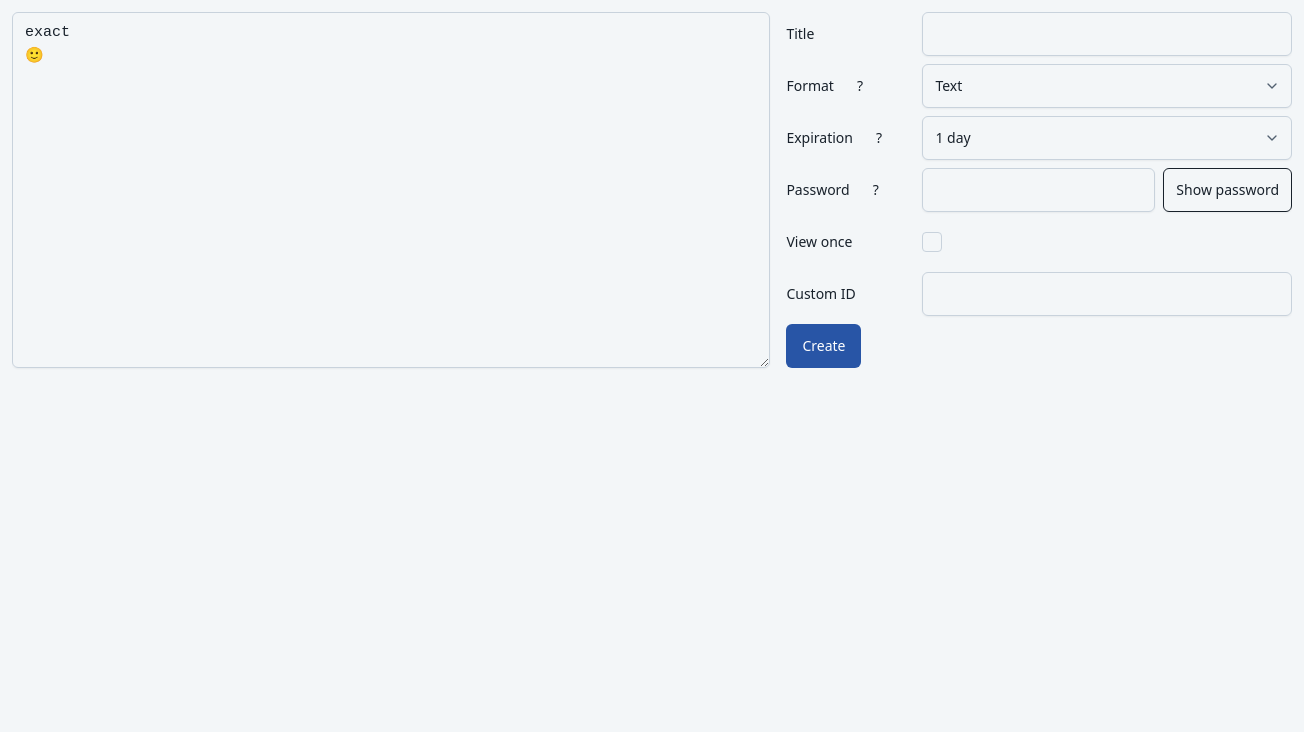
Test: create interaction › submits pasted CRLF source unchanged and stays on root
The image size is (1304, 732).
Check: the text box named "content" is shown, box [12,12,770,368]
Type "  title  " into the field named "title". click: {"x": 1107, "y": 34}
box: [922,12,1292,56]
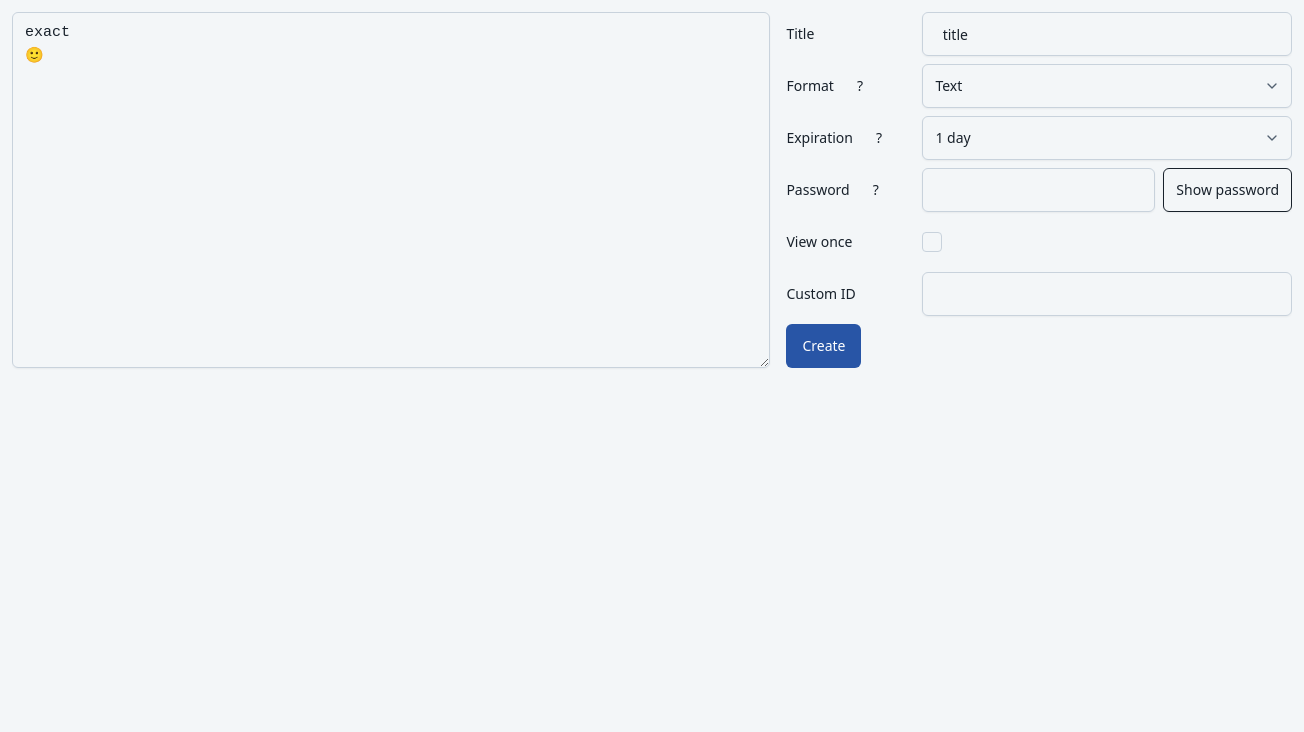
Click the checkbox labelled "View once". click: {"x": 932, "y": 242}
box: [922,232,942,252]
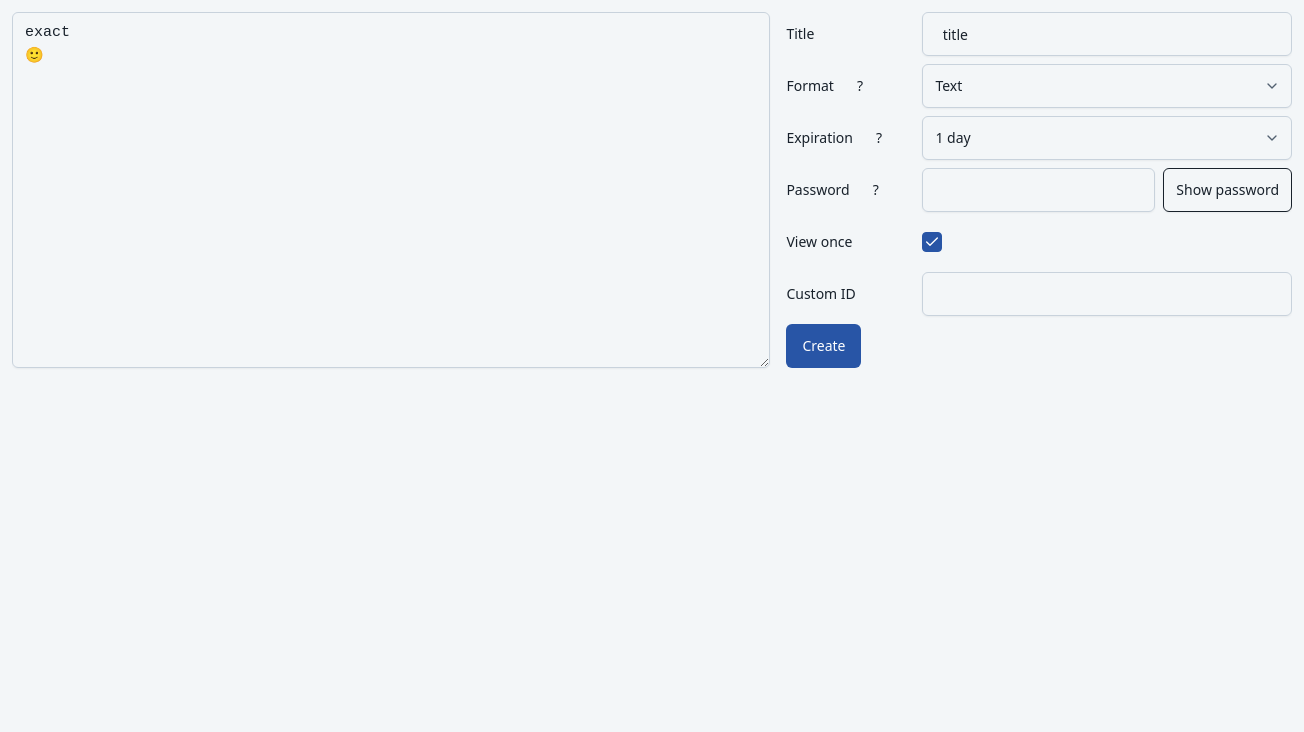
Click the button "Create". click: {"x": 824, "y": 346}
box: [786,324,862,368]
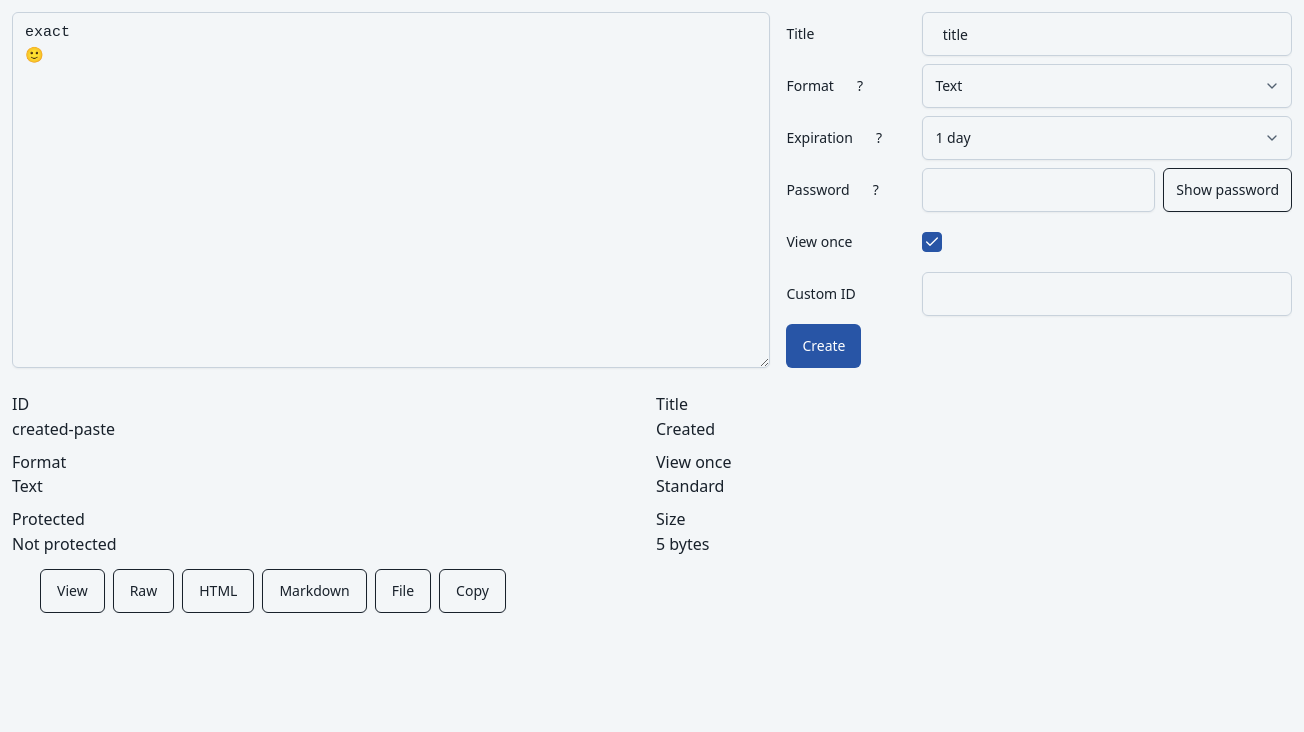
Check: the text "created-paste" is shown, box [12,418,115,440]
Check: the text "created" is shown, box [12,418,115,440]
